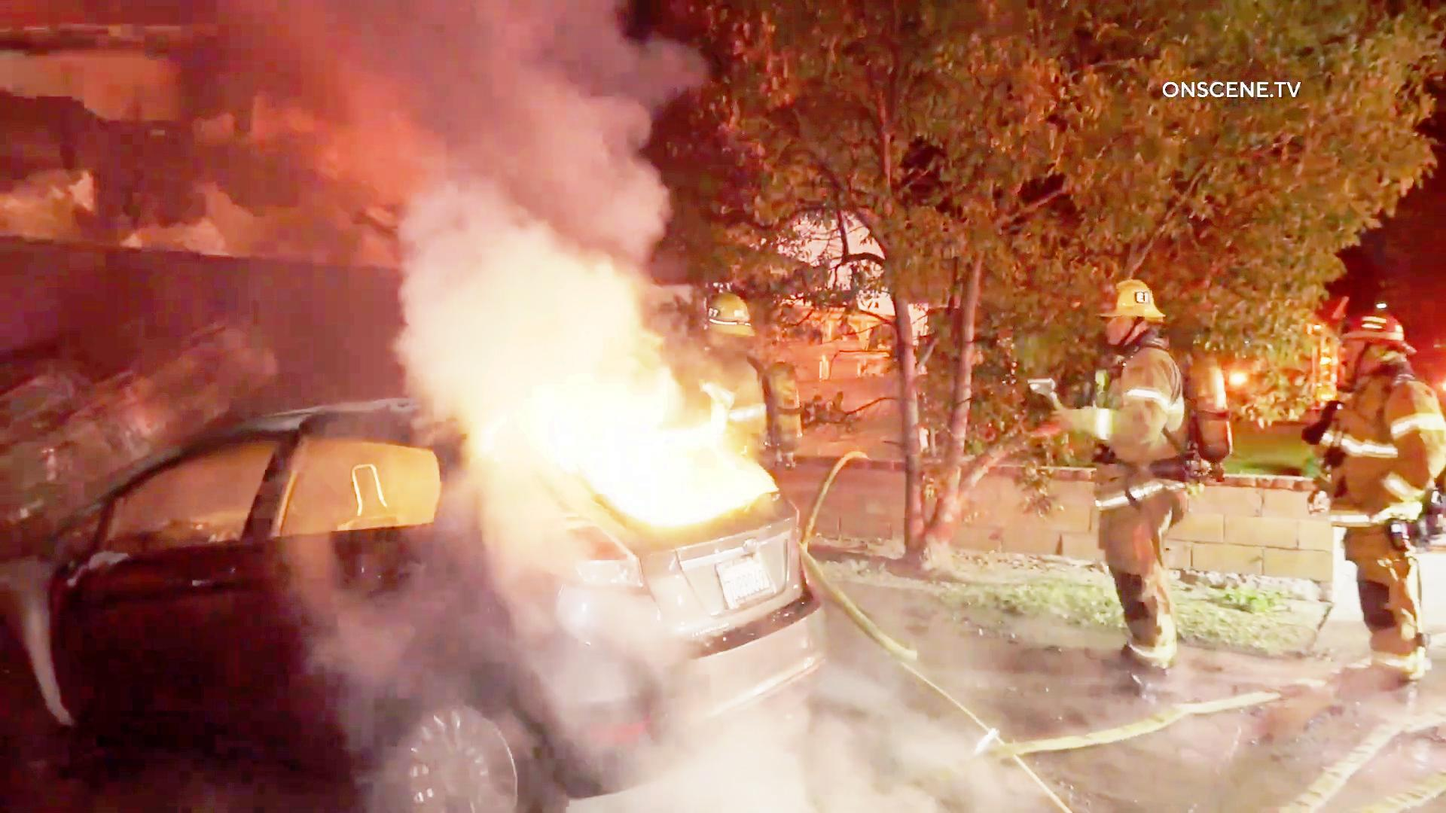fire: (511, 356, 761, 538)
smoke: (415, 13, 626, 307), (516, 625, 844, 813)
